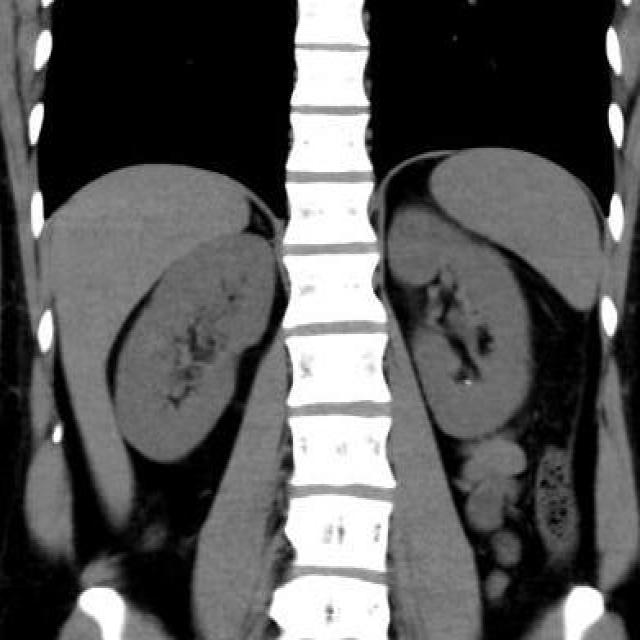Tas_Var: (463, 377, 473, 387)
